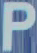Parking: (3, 1, 36, 50)
